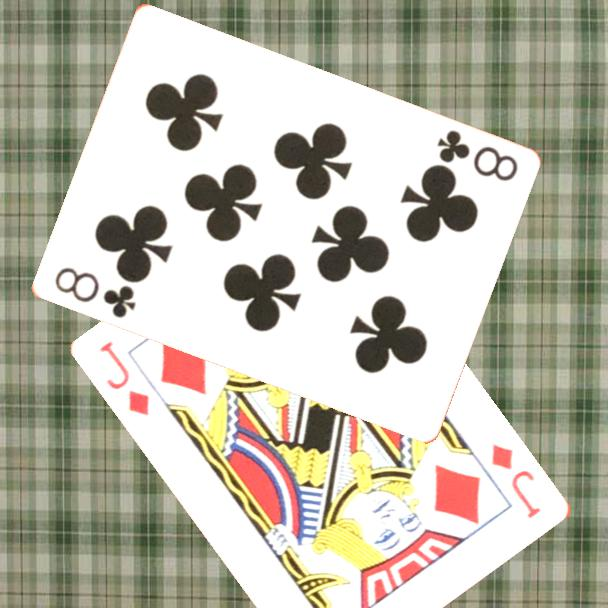c08: (433, 126, 520, 185), (50, 264, 138, 321)
d11: (96, 337, 153, 419), (488, 440, 544, 522)
